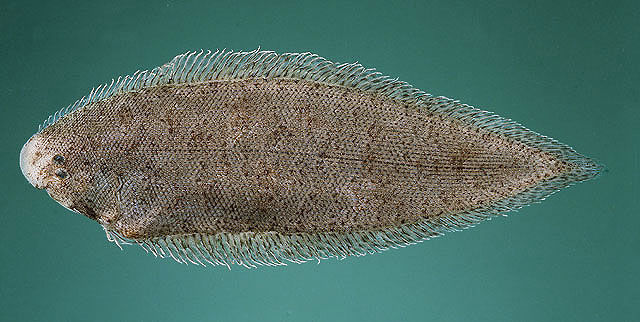fish: (18, 50, 613, 270)
